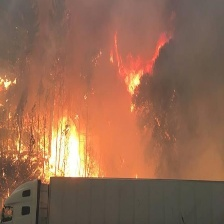fire: (4, 110, 98, 178), (111, 28, 171, 99), (1, 77, 23, 100)
smoke: (96, 4, 224, 175)
